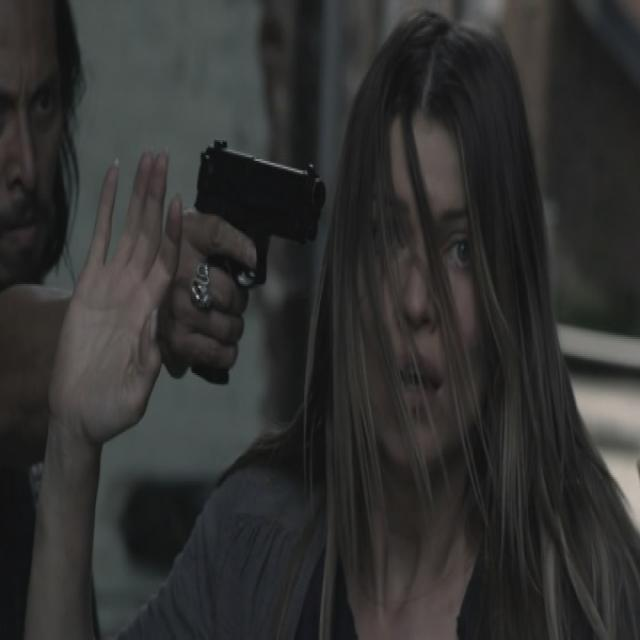weapons: (172, 107, 326, 396)
